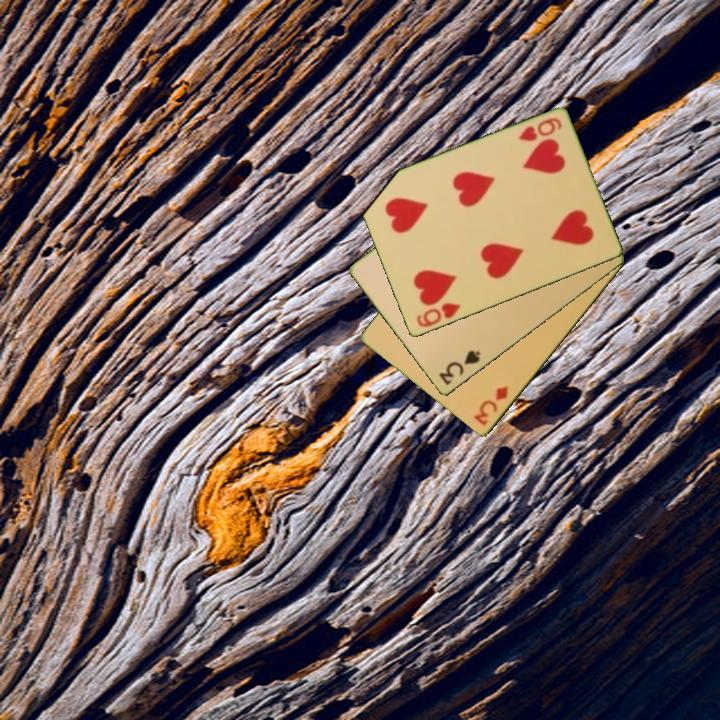3d: (470, 383, 511, 429)
3s: (435, 347, 483, 389)
6h: (413, 299, 463, 331), (515, 114, 565, 145)
